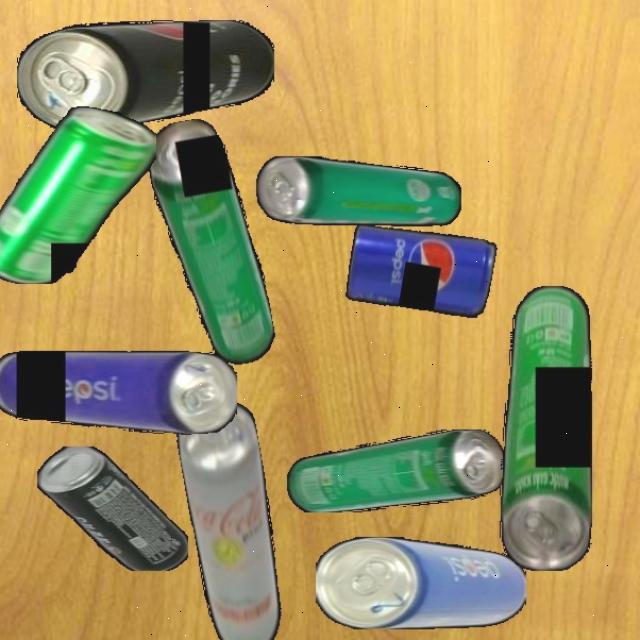debris: (142, 113, 278, 373), (172, 397, 295, 640), (17, 19, 274, 132), (0, 105, 156, 283), (499, 285, 592, 571), (0, 351, 237, 435), (316, 536, 526, 629), (36, 446, 188, 571), (286, 430, 504, 512), (343, 218, 498, 323), (256, 155, 462, 228)
